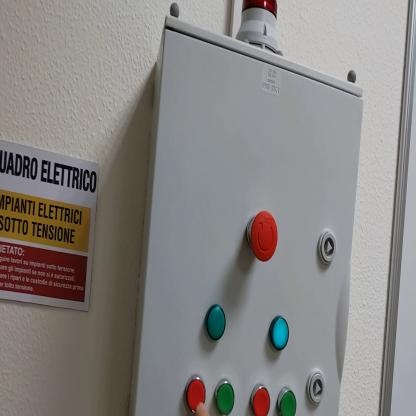hand: (196, 402, 206, 411)
left green button: (214, 376, 235, 412)
left red button: (185, 375, 207, 415)
right green button: (280, 387, 301, 415)
right red button: (252, 382, 271, 412)
